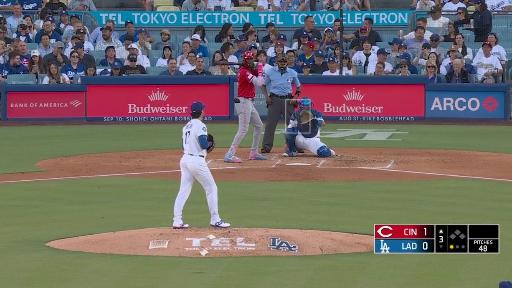pitcher: (173, 100, 232, 229)
